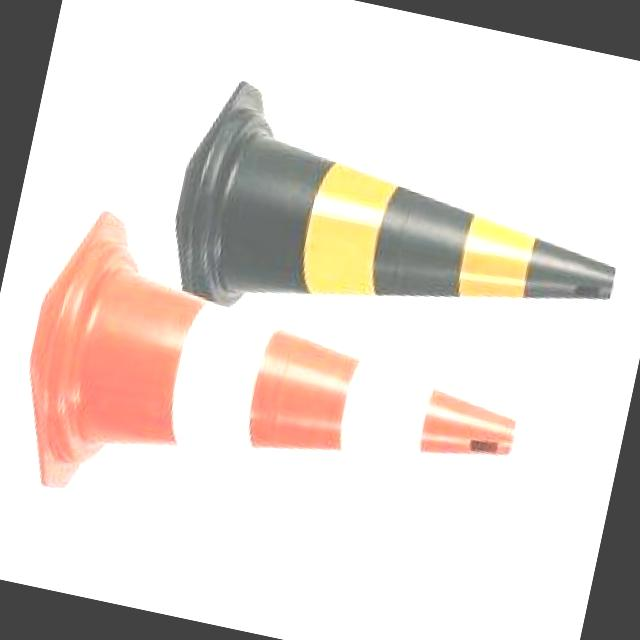cone: (2, 212, 545, 570), (156, 80, 632, 386)
